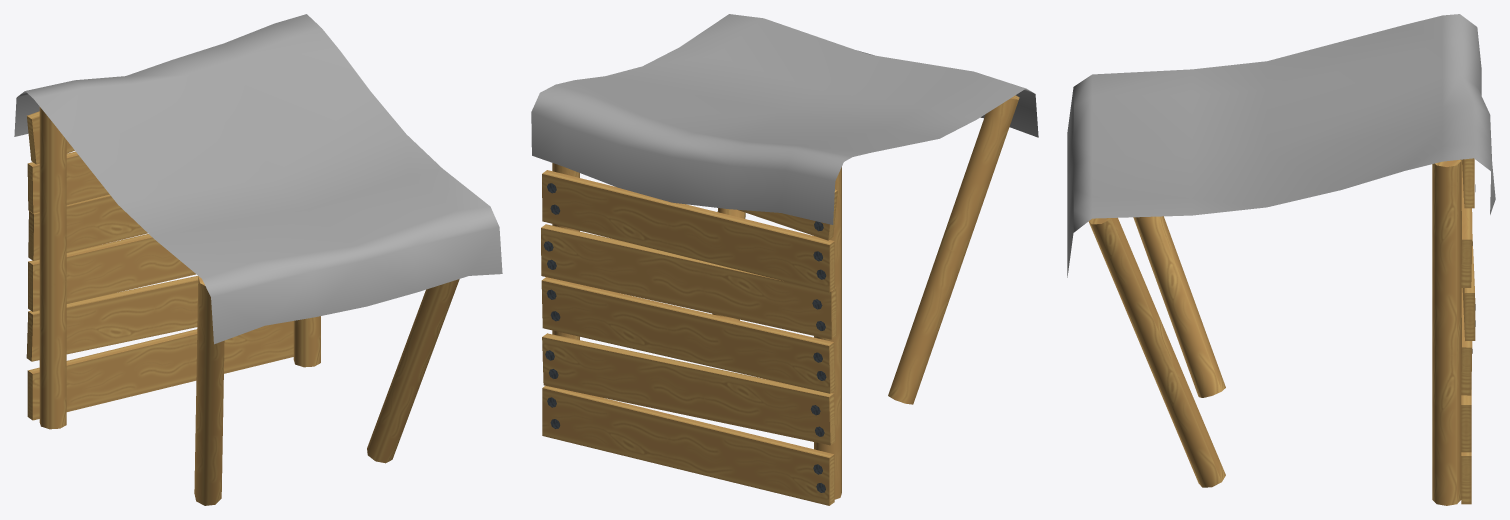
The model's file is Hut1.fbx.
3 renders of one model, left to right at view 1: azimuth 30°, elevation 25°; view 2: azimuth 150°, elevation 25°; view 3: azimuth 270°, elevation 25°, orthographic. The views are drawn at different scales.
Visible parts, largest first — view 1: Tarp, Wood; view 2: Wood, Tarp; view 3: Tarp, Wood.
Boxes of the visible parts, x1=… form: Tarp: x1=14, y1=14, x2=502, y2=344; Wood: x1=26, y1=107, x2=459, y2=505; Wood: x1=541, y1=95, x2=1019, y2=505; Tarp: x1=531, y1=14, x2=1038, y2=224; Tarp: x1=1067, y1=14, x2=1495, y2=277; Wood: x1=1088, y1=158, x2=1475, y2=505.
Size of the model in its own units: 357 by 402 by 442.
